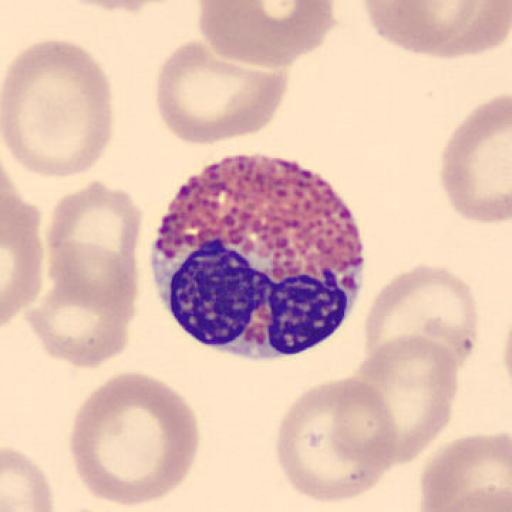RBC: (36, 180, 140, 370), (67, 370, 200, 508), (0, 37, 115, 180), (274, 376, 400, 504), (154, 35, 290, 147), (46, 179, 142, 327), (355, 332, 459, 468), (362, 262, 480, 376), (26, 258, 138, 370), (196, 0, 337, 71), (439, 93, 512, 226), (362, 0, 511, 61), (418, 431, 512, 512), (328, 376, 400, 470), (1, 179, 43, 327), (2, 444, 56, 512), (435, 485, 511, 512), (56, 0, 166, 13)
WBC: (151, 156, 368, 360)
